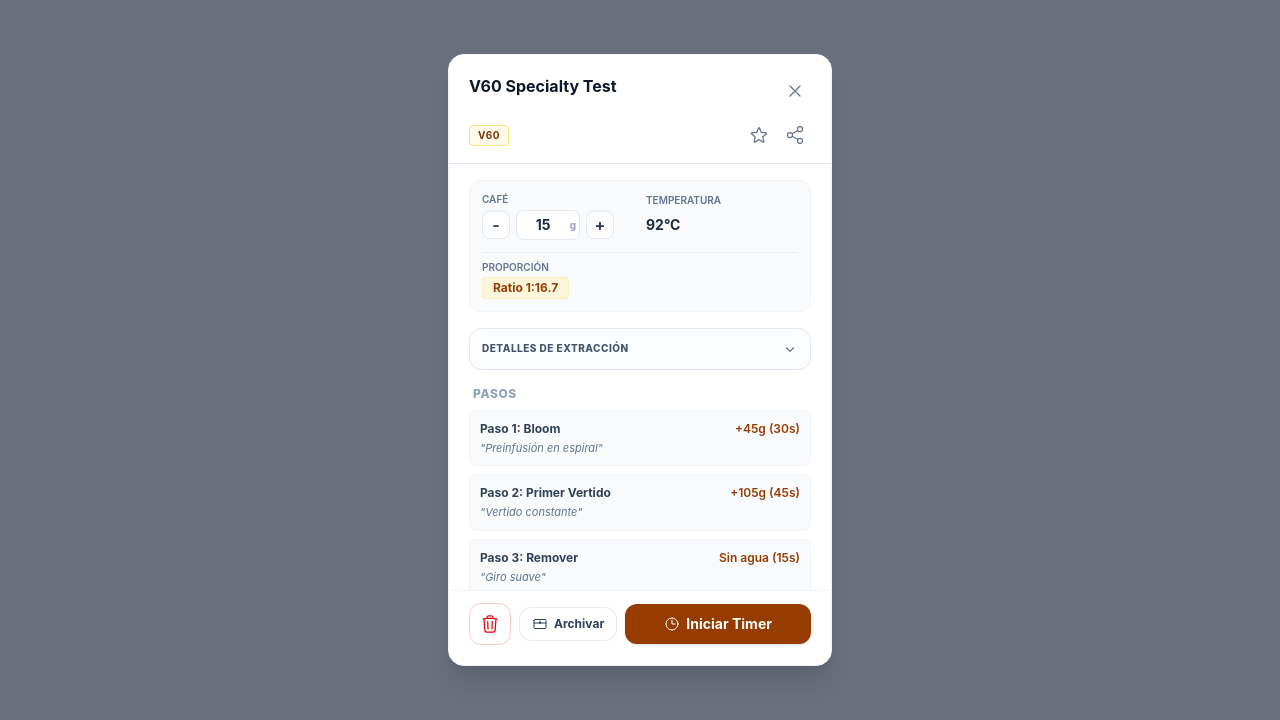
Test: Dynamic Ratio Calculator in RecipeSummaryModal › resets dose to original when clicking reset button
Click the button named "Aumentar dosis de café" at (600, 225), box [586, 211, 614, 239]
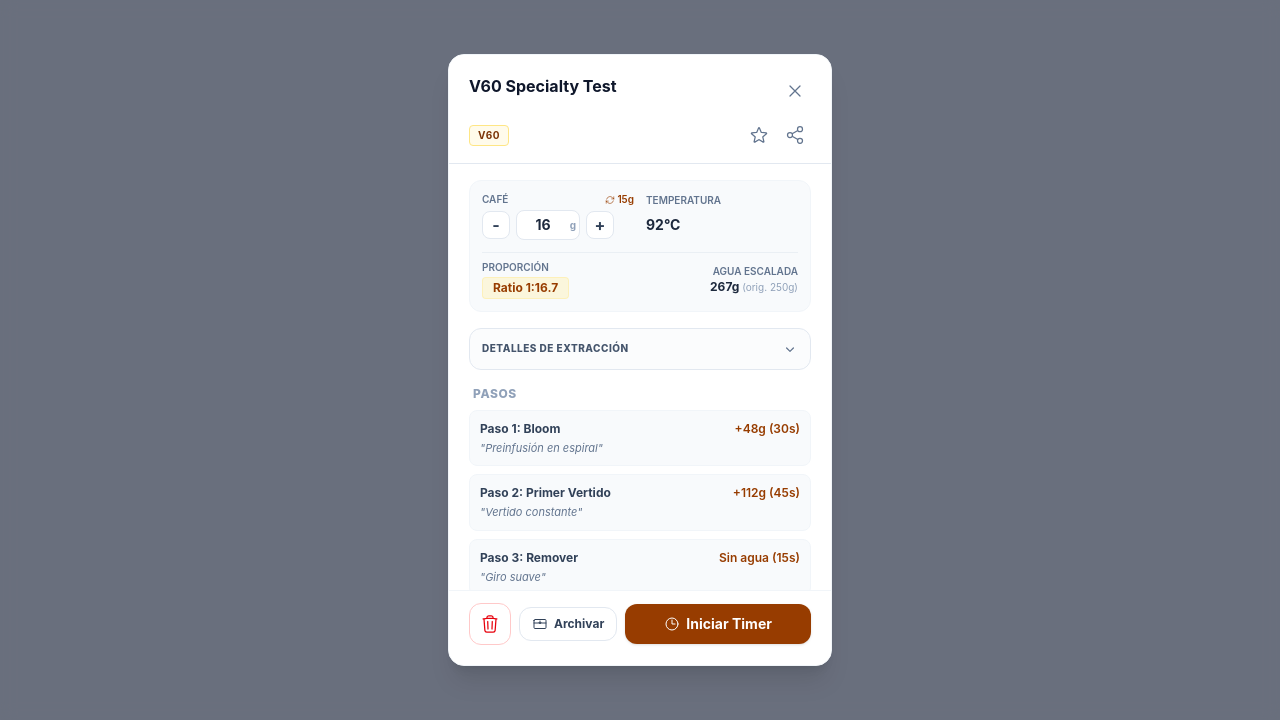
Click the button named "Aumentar dosis de café" at (600, 225), box [586, 211, 614, 239]
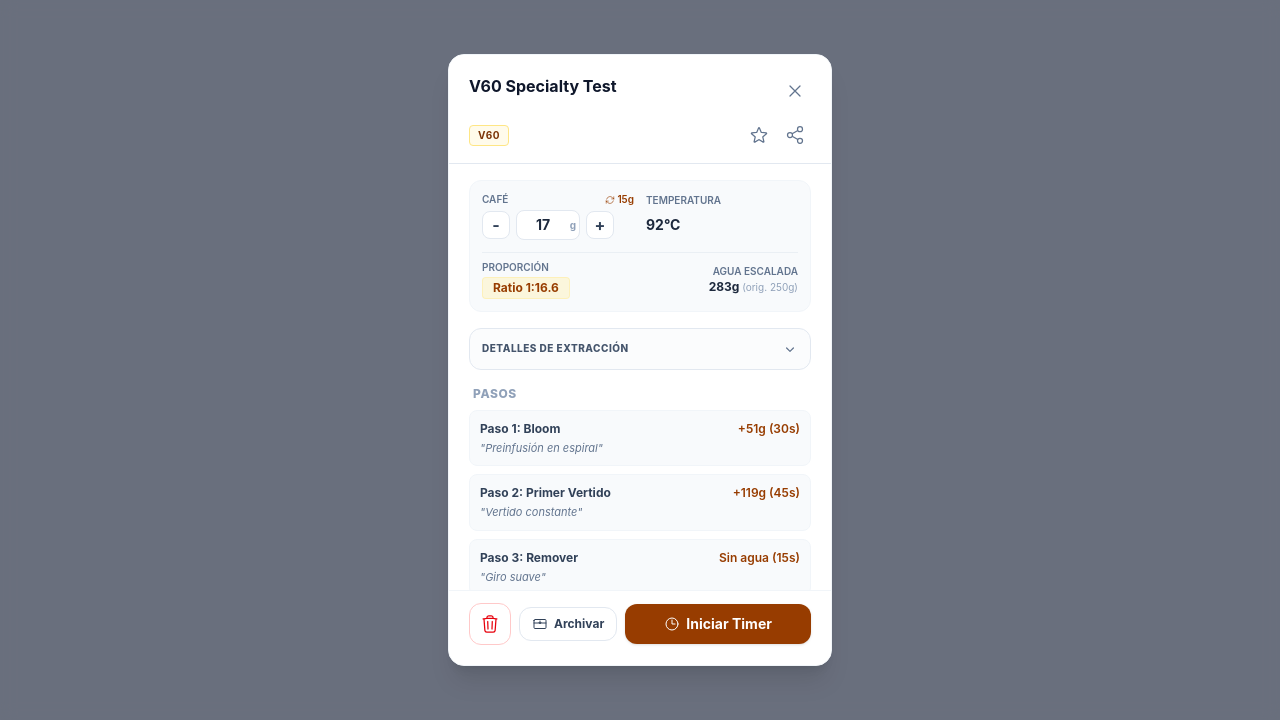
Check: the number field named "Dosis de café en gramos" holds "17", box [516, 210, 580, 240]
Click the button named "Restablecer dosis original" at (620, 200), box [605, 193, 634, 206]
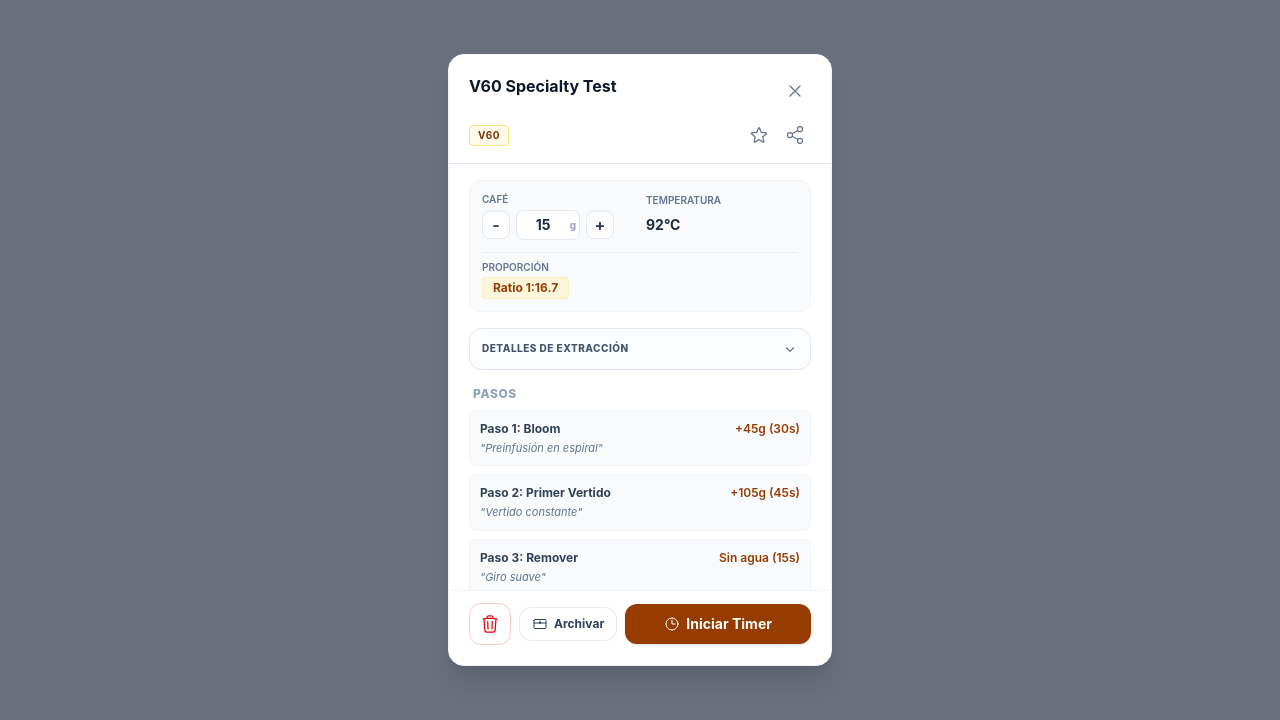
Check: the number field named "Dosis de café en gramos" holds "15", box [516, 210, 580, 240]
